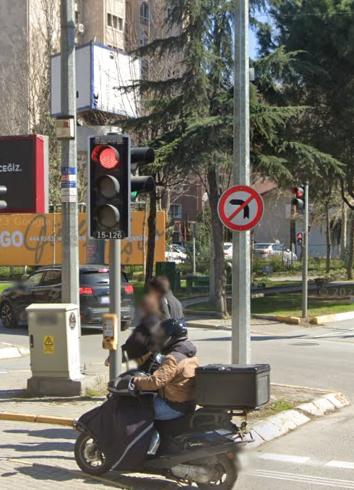leftturnsareforbidden: (217, 182, 265, 232)
redlight: (90, 134, 129, 241)
